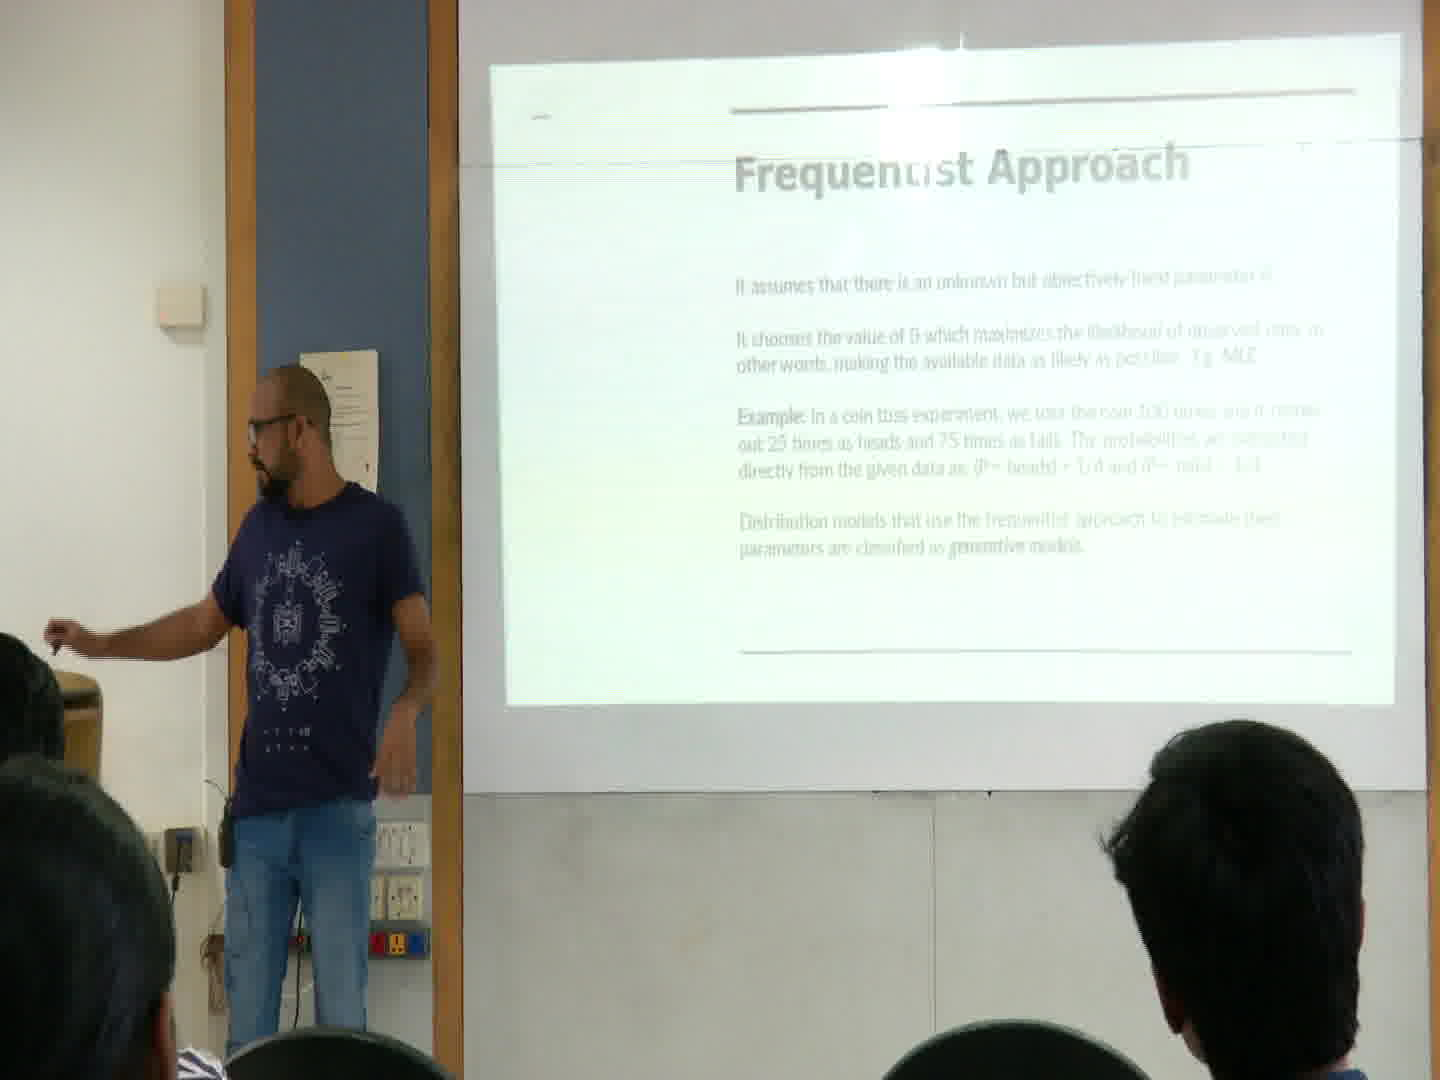slide: (489, 33, 1403, 704)
